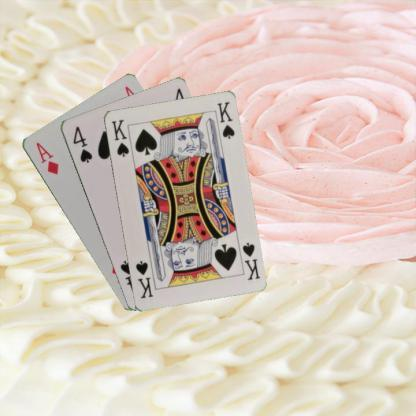4s: (70, 123, 94, 164)
Ad: (32, 140, 60, 176)
Ks: (239, 240, 261, 282), (109, 116, 130, 158)
